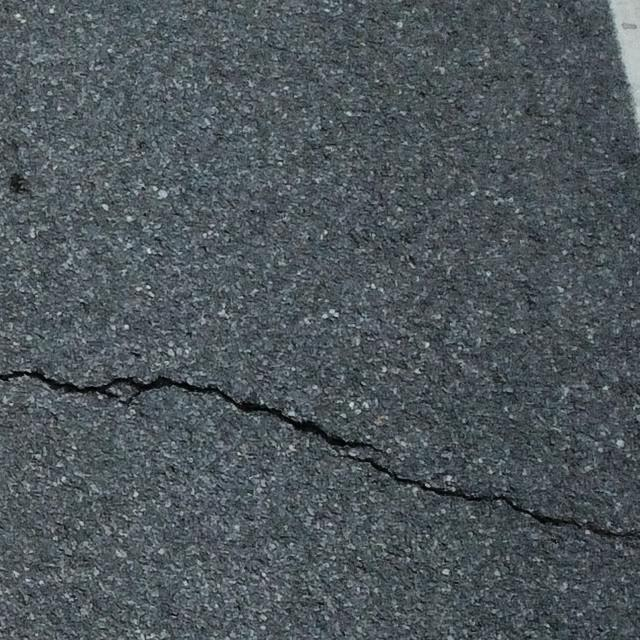TransverseCrack: (1, 367, 640, 541)
